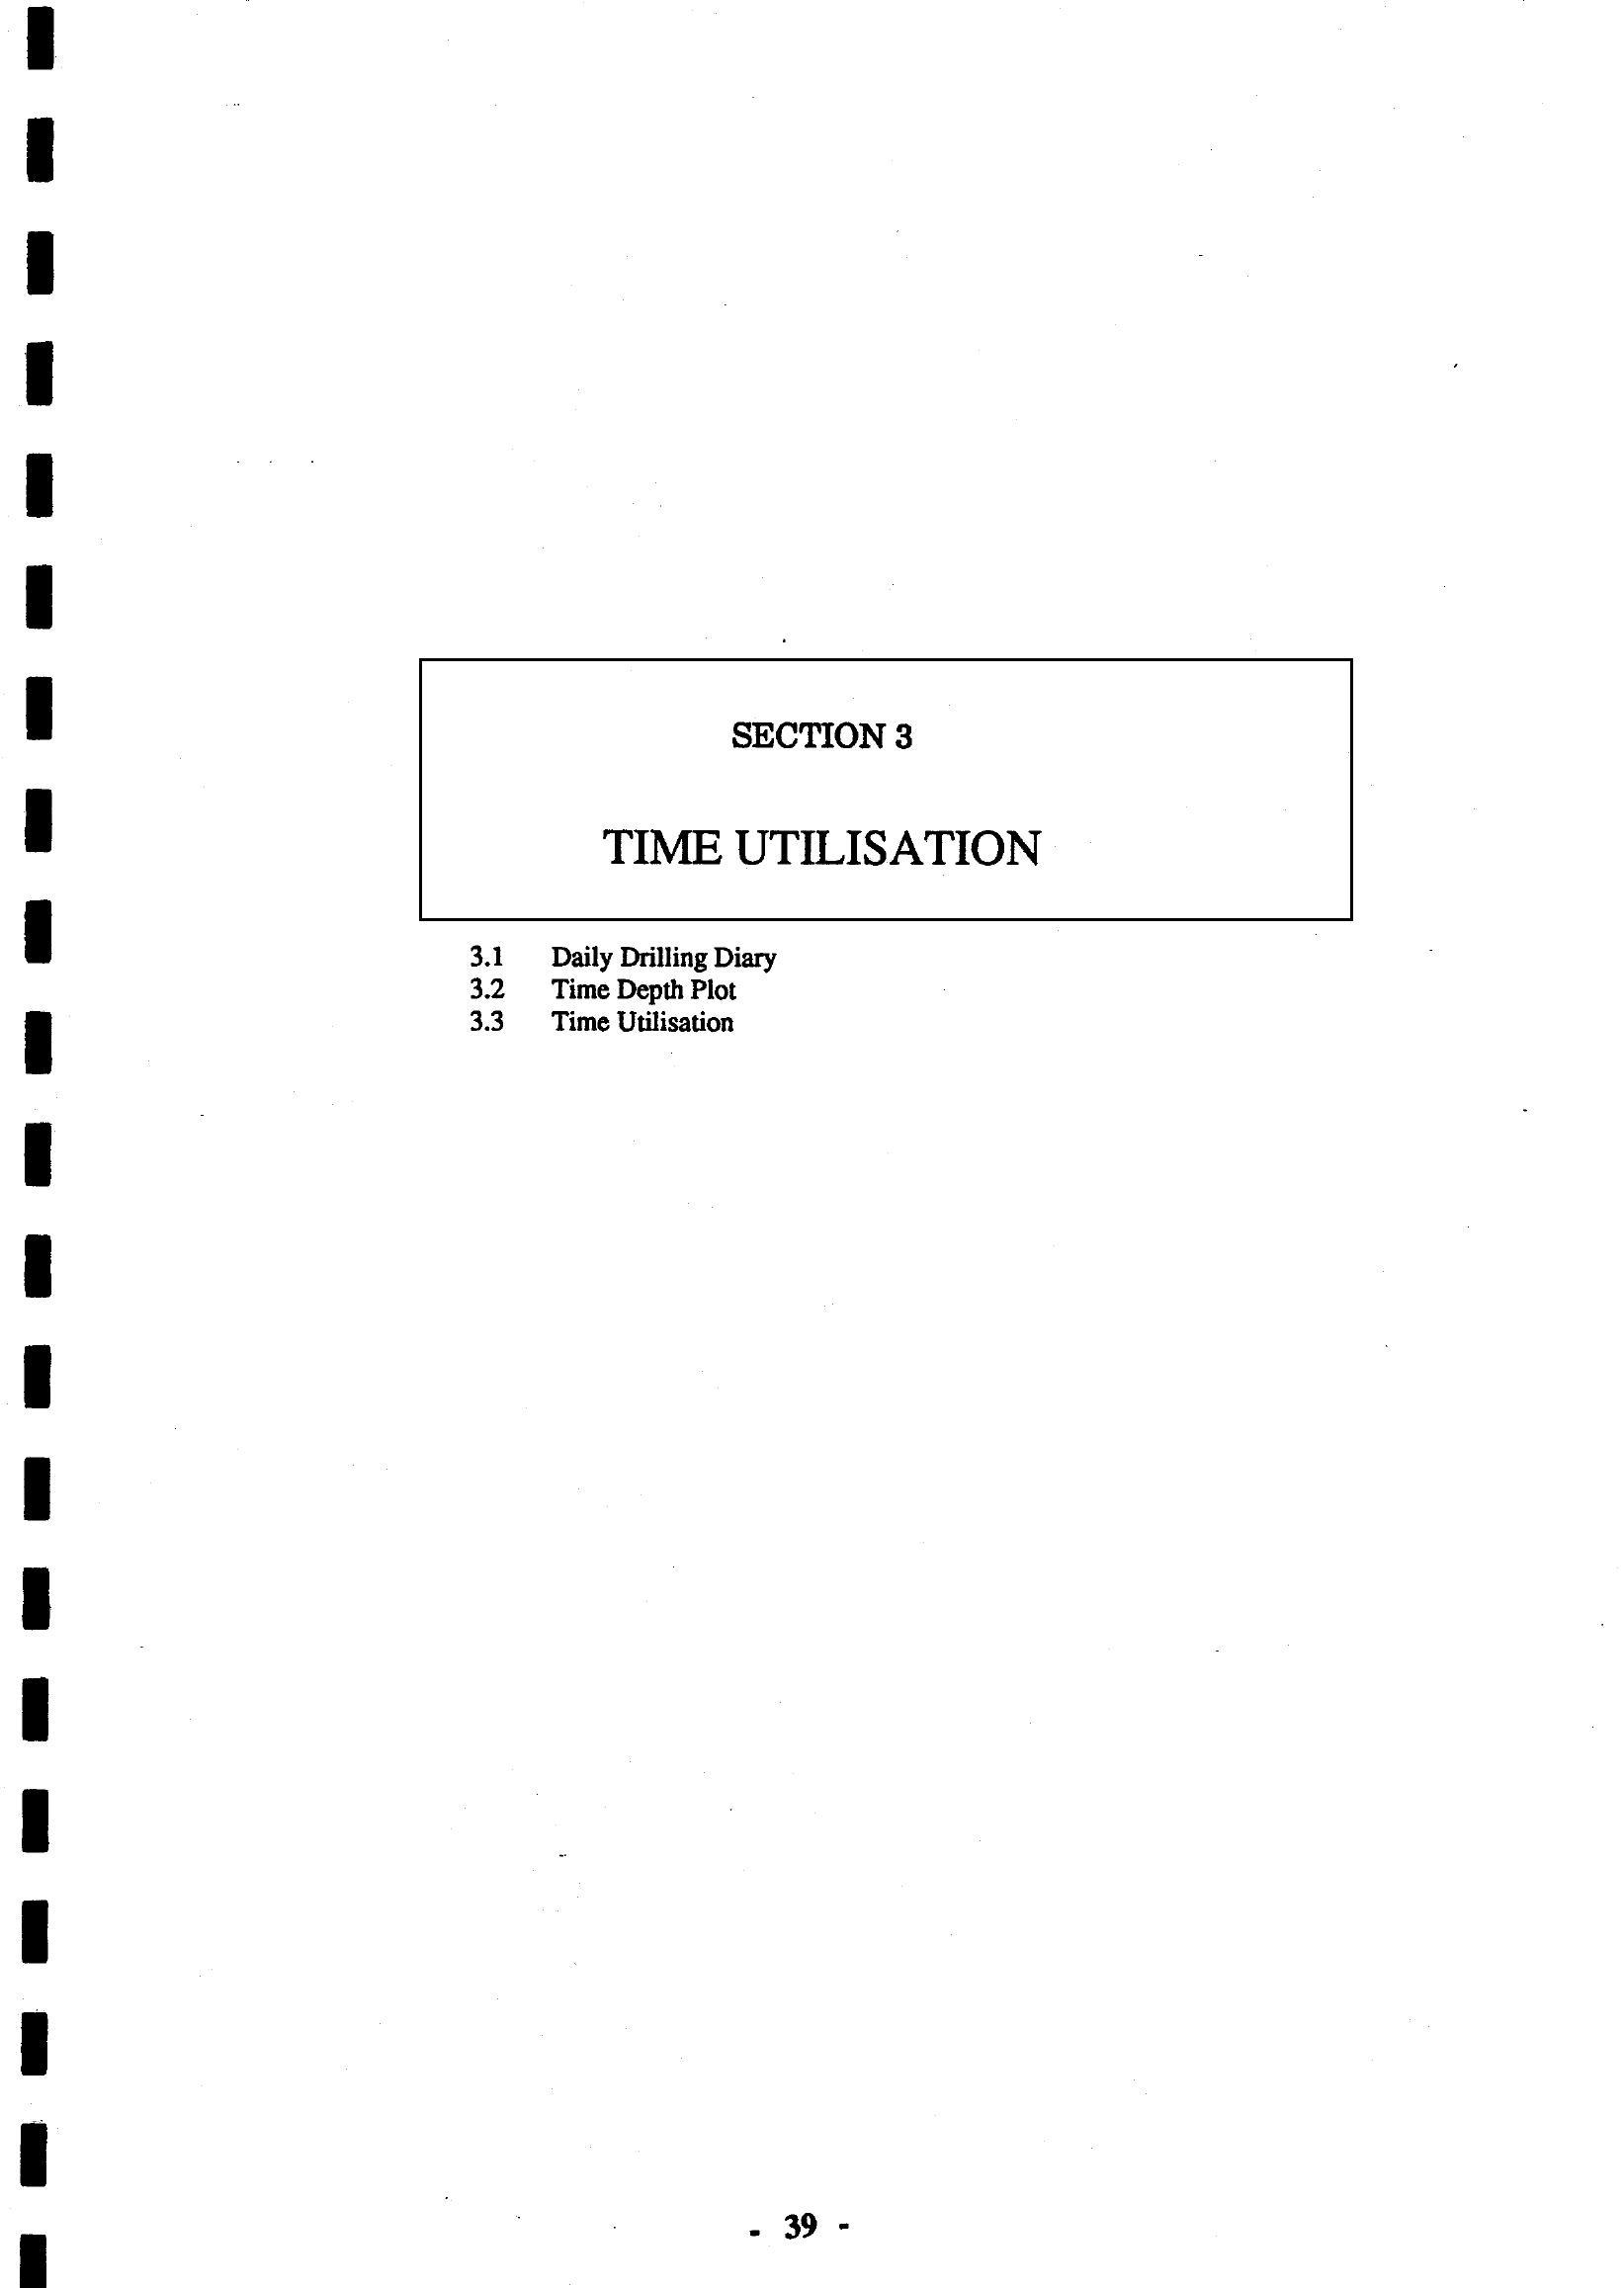text: (355, 610, 1404, 1084)
